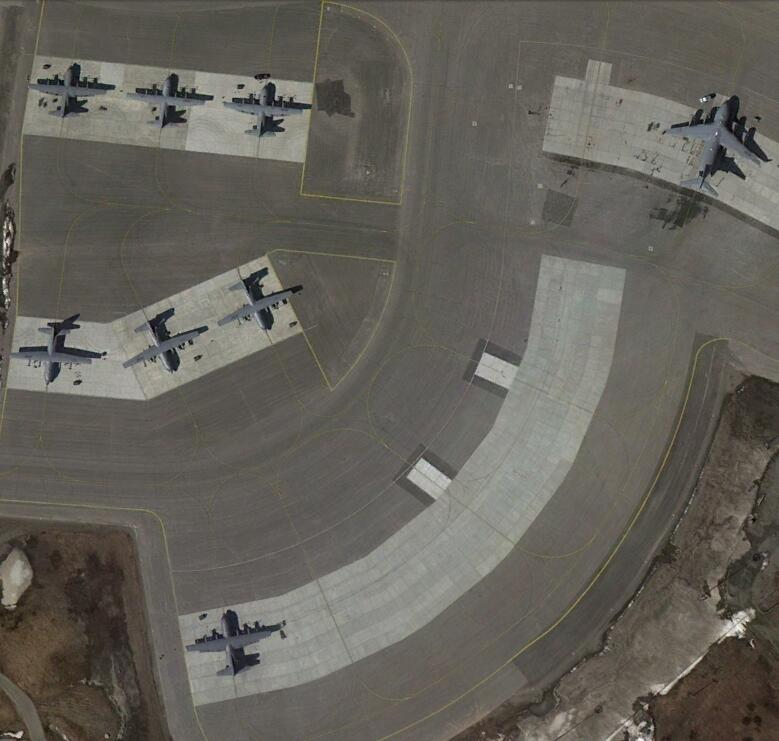A2: (183, 609, 278, 677), (119, 310, 203, 373), (215, 268, 295, 332), (11, 323, 93, 385), (223, 80, 305, 140), (29, 62, 117, 117), (126, 71, 205, 129)
A3: (663, 96, 765, 197)
